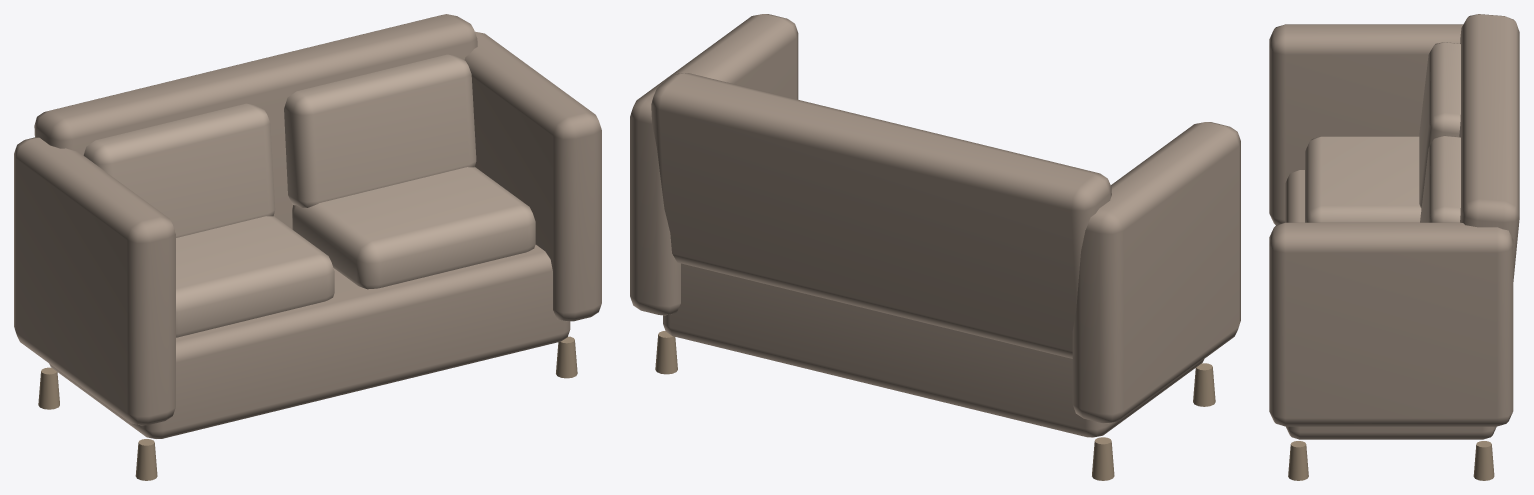
The model's file is sofa.glb.
The picture shows the model from 3 angles, left to right: view 1: azimuth 30°, elevation 25°; view 2: azimuth 150°, elevation 25°; view 3: azimuth 270°, elevation 25°; orthographic projection. The views are drawn at different scales.
Visible parts, largest first — view 1: furn_sofa; view 2: furn_sofa; view 3: furn_sofa.
Part boxes in pixels (x1,y1,x2,y2): furn_sofa: (14,14,601,480); furn_sofa: (630,14,1240,480); furn_sofa: (1269,14,1519,480).
Bounding box in the file's own units: 1.6 × 0.9224 × 0.7697.
